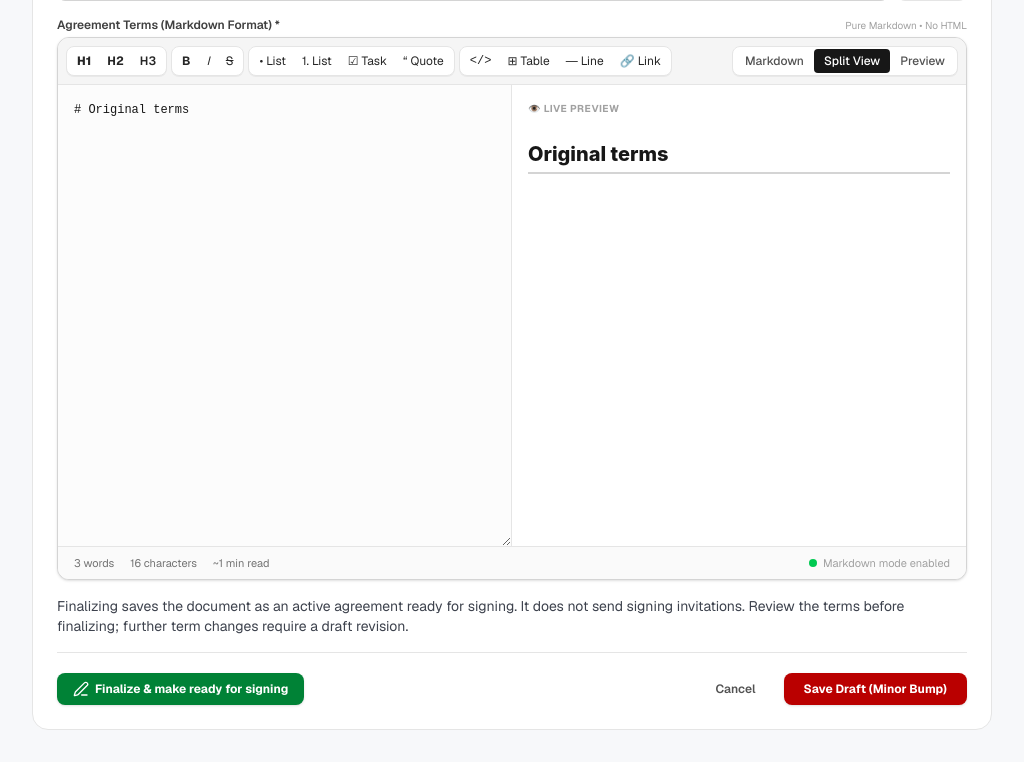
Agreement editor creation and full-page handoff › keeps the full-page editor open and updates the version after saving
(page scrolled)
Click the button "Save Draft (Minor Bump)" at (875, 689), box [784,673,967,705]
(page scrolled)
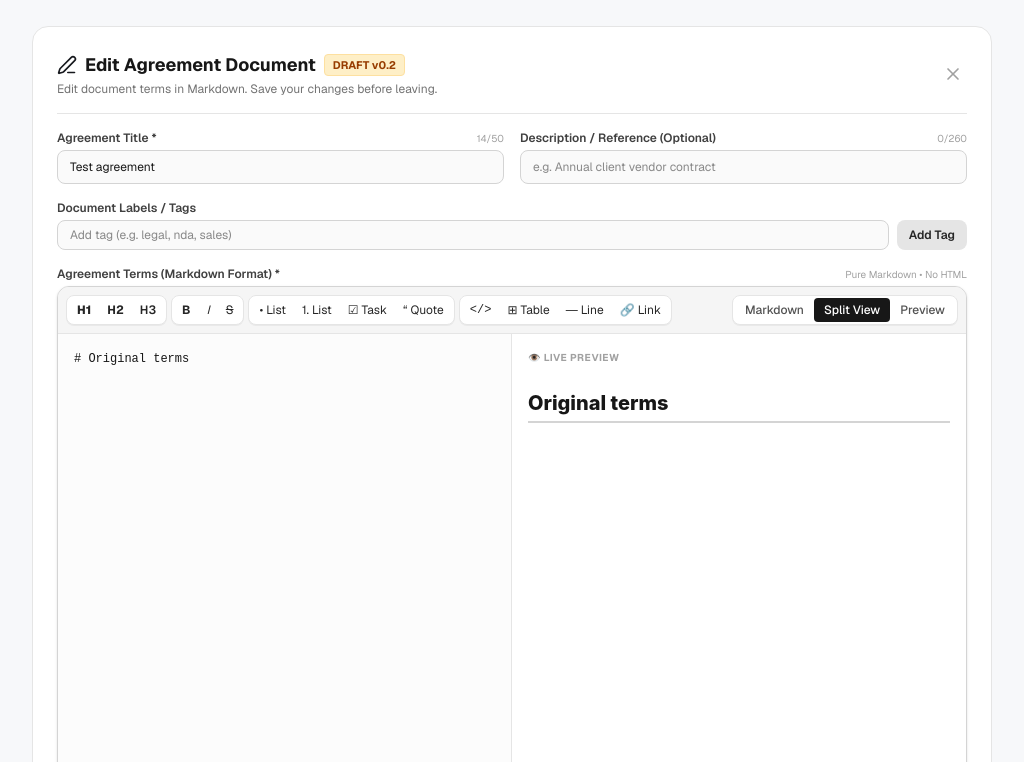
Check: the text "DRAFT v0.2" is shown, box [324,54,405,76]
